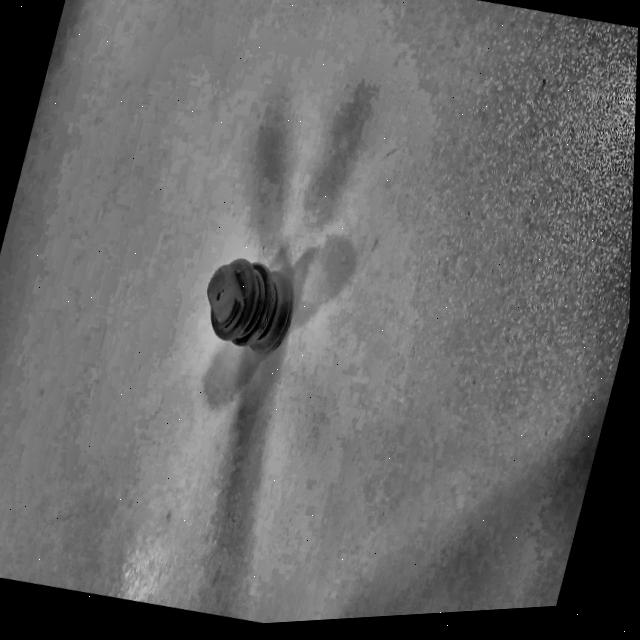white-king: (173, 198, 339, 407)
